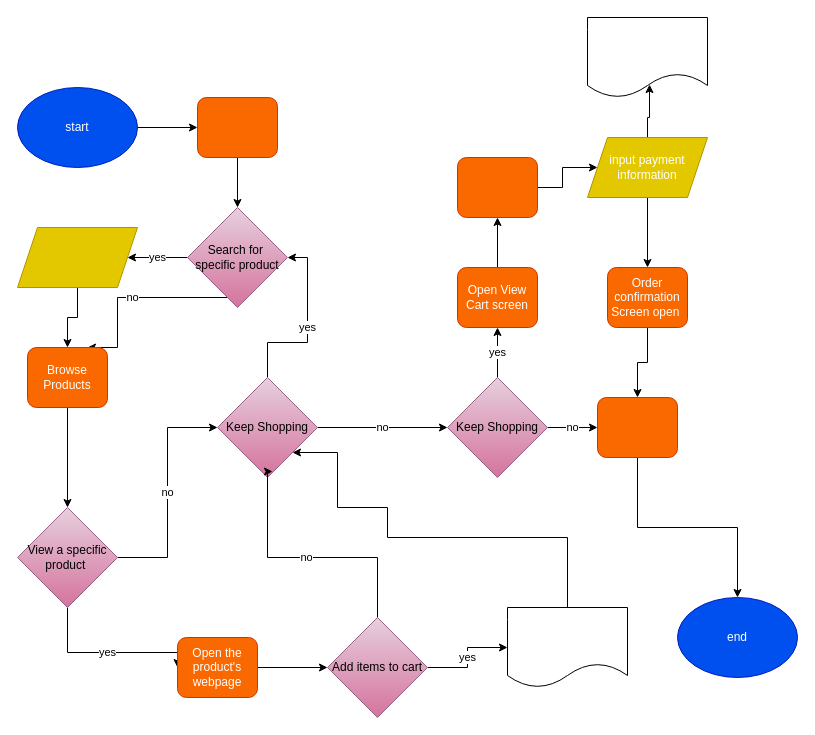
Some shapes in this 815 by 735 pixel diagram are drawn without their labels. Each missing label, with the box of its shape:
Cart confirmation: (506, 606, 628, 688)
Email confirmation: (586, 16, 708, 98)
Enter the website: (196, 96, 278, 158)
Input search: (16, 226, 138, 288)
Leave website: (596, 396, 678, 458)
Open View payment screen: (456, 156, 538, 218)
